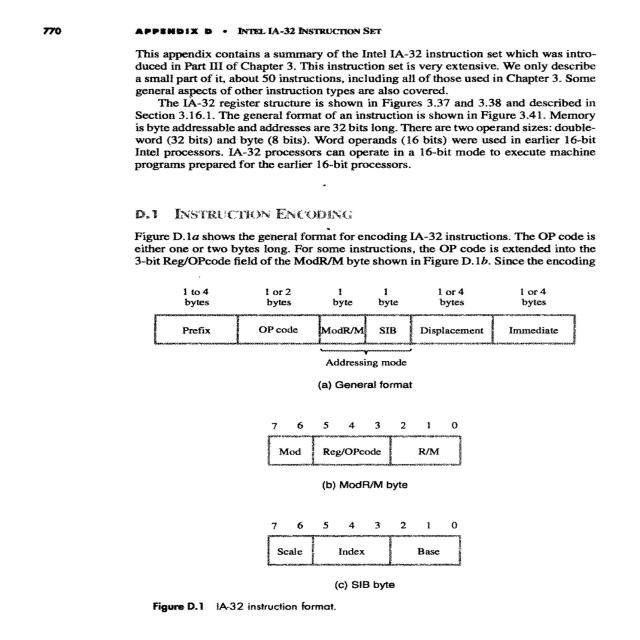diagram: (69, 277, 622, 619)
